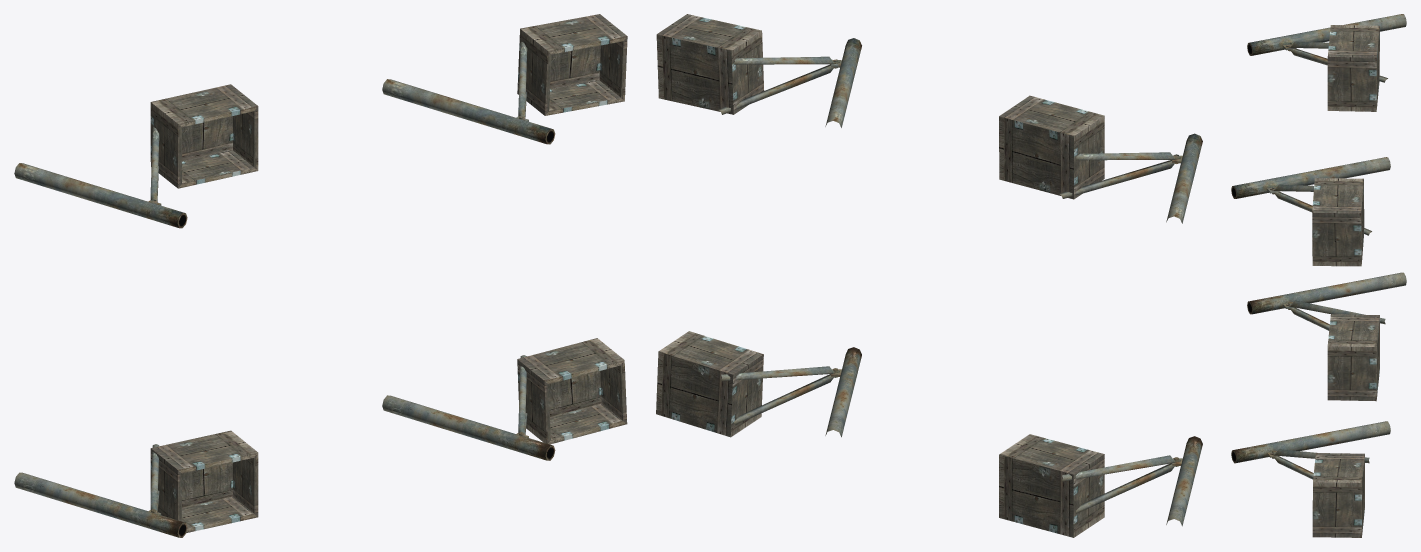
The model's file is vehicle_higgins_mortors.glb.
3 views of the same model, side by side, from view 1: azimuth 30°, elevation 25°; view 2: azimuth 150°, elevation 25°; view 3: azimuth 270°, elevation 25° (orthographic). The views are drawn at different scales.
Bounding box in the file's own units: 225 × 157 × 72.93.
Materials: 1 (1 with a texture image).
